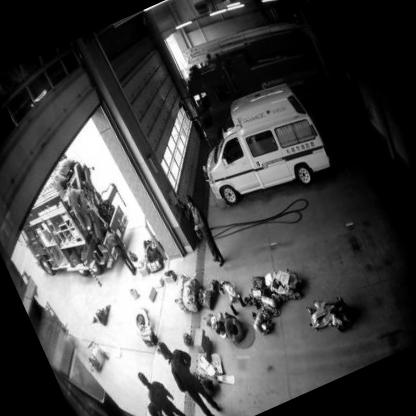ambulance: (179, 83, 351, 236)
truck: (1, 138, 162, 303)
